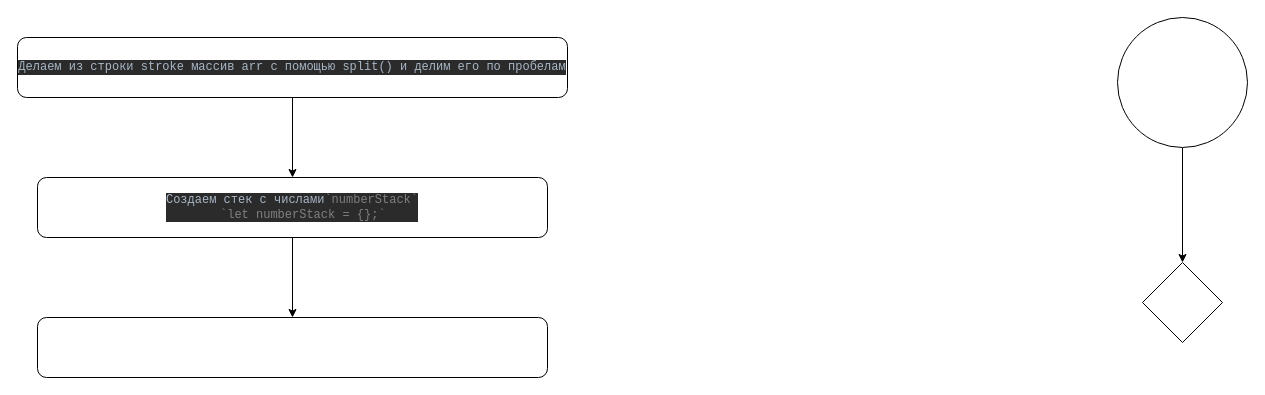
This 1265x395 diagram has some shape labels left out. The centre of each missing label's shape, as x and y in pixels:
Подача строки с примером: [1182,82]
Создаем стек с операторами `operatorStack` `let operatorStack = {};`: [292,347]
